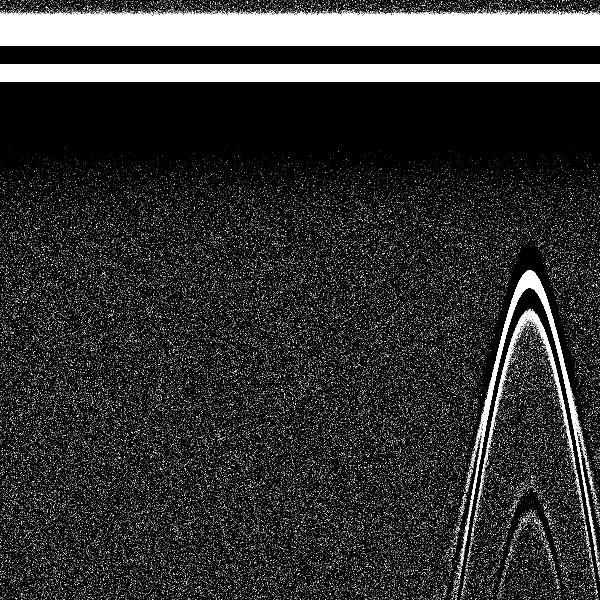pipe: (485, 5, 571, 343)
